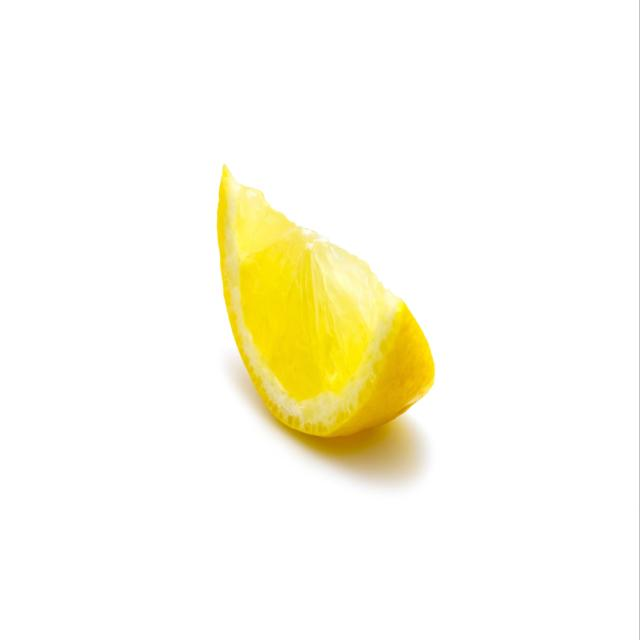lemon: (213, 160, 440, 446)
